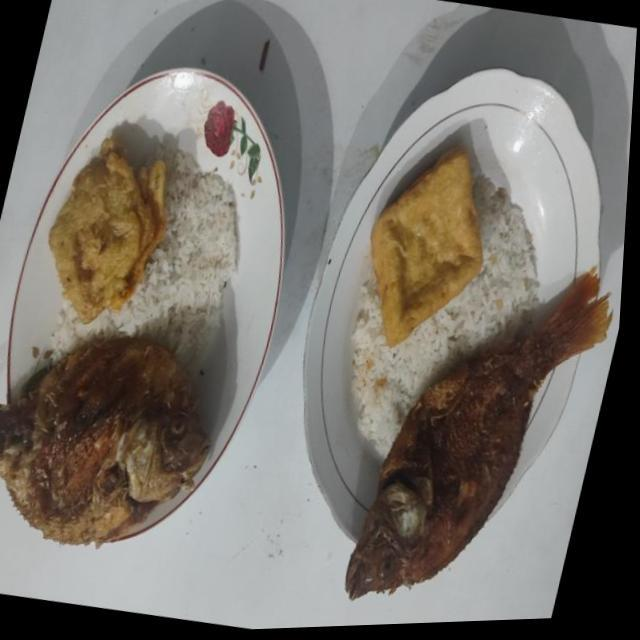ikan_mujair: (346, 275, 612, 599), (0, 336, 210, 544)
nasi_putih: (346, 174, 539, 458), (50, 139, 239, 374)
tahu_goreng: (370, 148, 482, 346)
